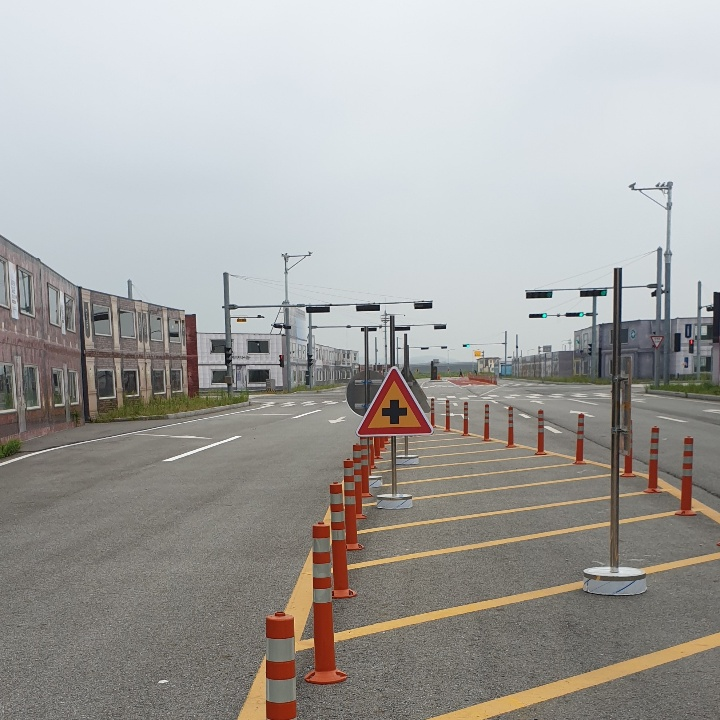inter: (377, 395, 410, 430)
